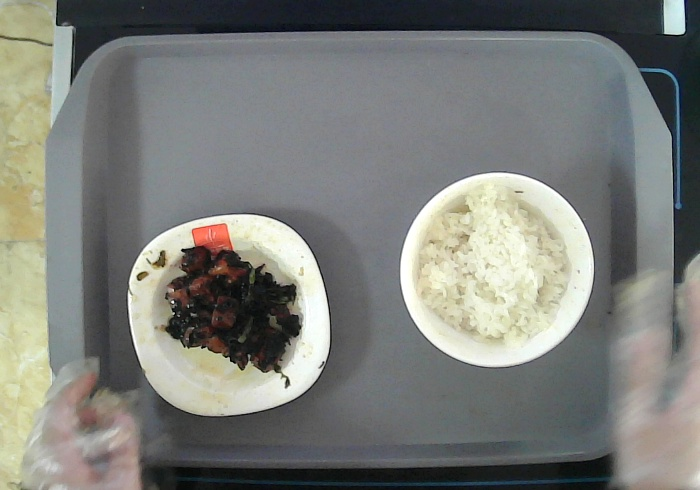SHKJ-Bai_Se_Si_Fang_Cai_Die: (127, 214, 331, 417)
SHKJ-Fan_Wan: (400, 172, 594, 368)
